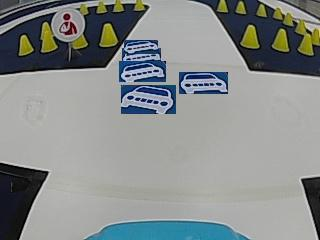cone: (240, 24, 259, 49), (40, 24, 57, 51), (99, 23, 117, 47), (273, 29, 289, 51), (18, 34, 33, 55), (298, 35, 313, 55), (71, 33, 88, 49), (295, 19, 307, 33), (256, 3, 267, 17), (132, 0, 145, 11), (235, 1, 246, 14), (283, 11, 293, 25), (217, 0, 228, 12), (96, 1, 107, 13), (272, 7, 283, 19), (113, 0, 124, 12), (79, 3, 89, 14)
patient: (52, 9, 84, 40)
